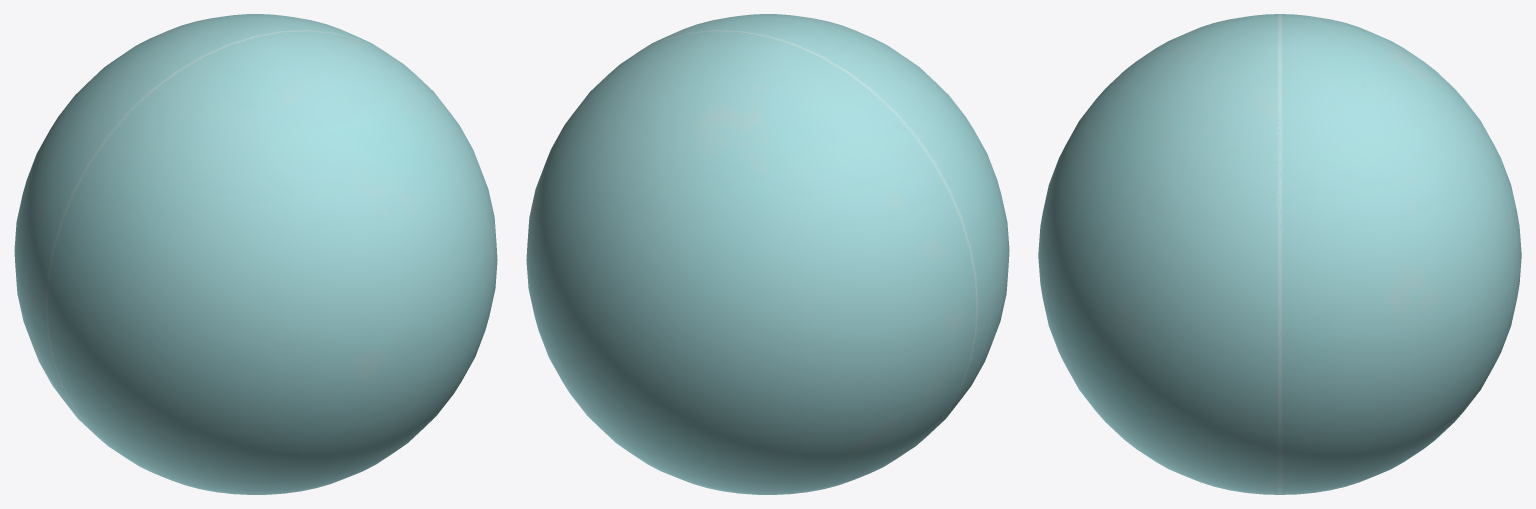
The model's file is GlitterGooBall.fbx.
The picture shows the model from 3 angles, left to right: view 1: azimuth 30°, elevation 25°; view 2: azimuth 150°, elevation 25°; view 3: azimuth 270°, elevation 25°; orthographic projection.
Visible parts, largest first — view 1: GlitterGooBall_Body; view 2: GlitterGooBall_Body; view 3: GlitterGooBall_Body.
Part boxes in pixels (box(x1,y1,x2,y2)): GlitterGooBall_Body: box(14, 14, 497, 494); GlitterGooBall_Body: box(526, 14, 1009, 494); GlitterGooBall_Body: box(1038, 14, 1521, 494).
Bounding box in the file's own units: 0.252 × 0.2448 × 0.252.
2 materials, 2 textured.
